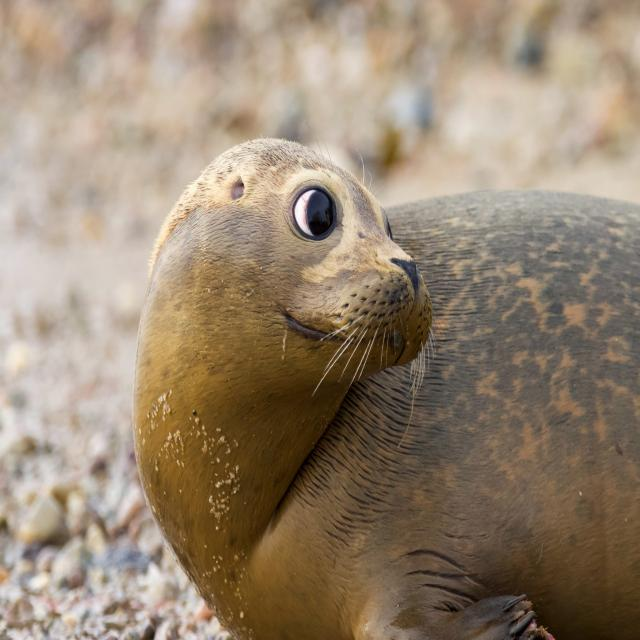WaterDog: (132, 131, 640, 640)
